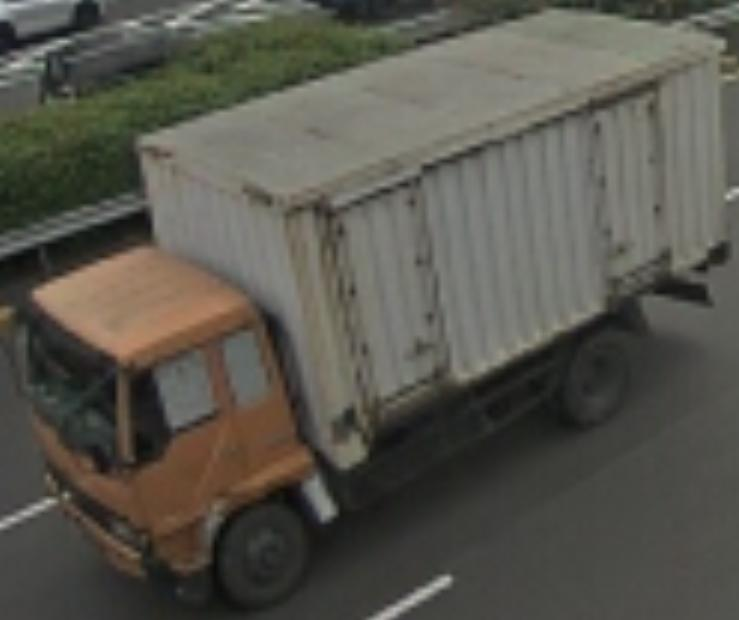truck: (1, 227, 351, 600)
